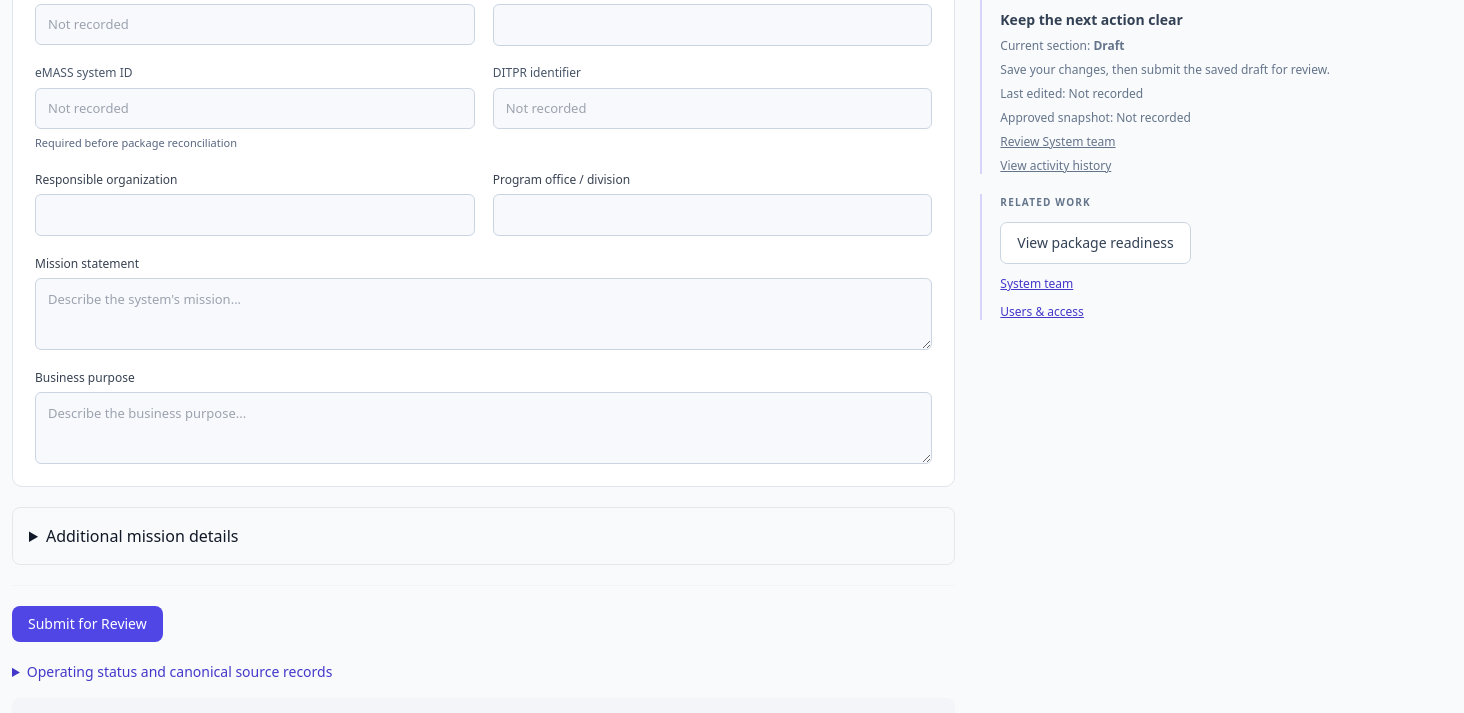
Test case: server-authoritative profile editing (#968) › does not claim success when the server skips submission
(page scrolled)
Click the button "Submit for Review" at (87, 624), box [12, 606, 163, 642]
(page scrolled)
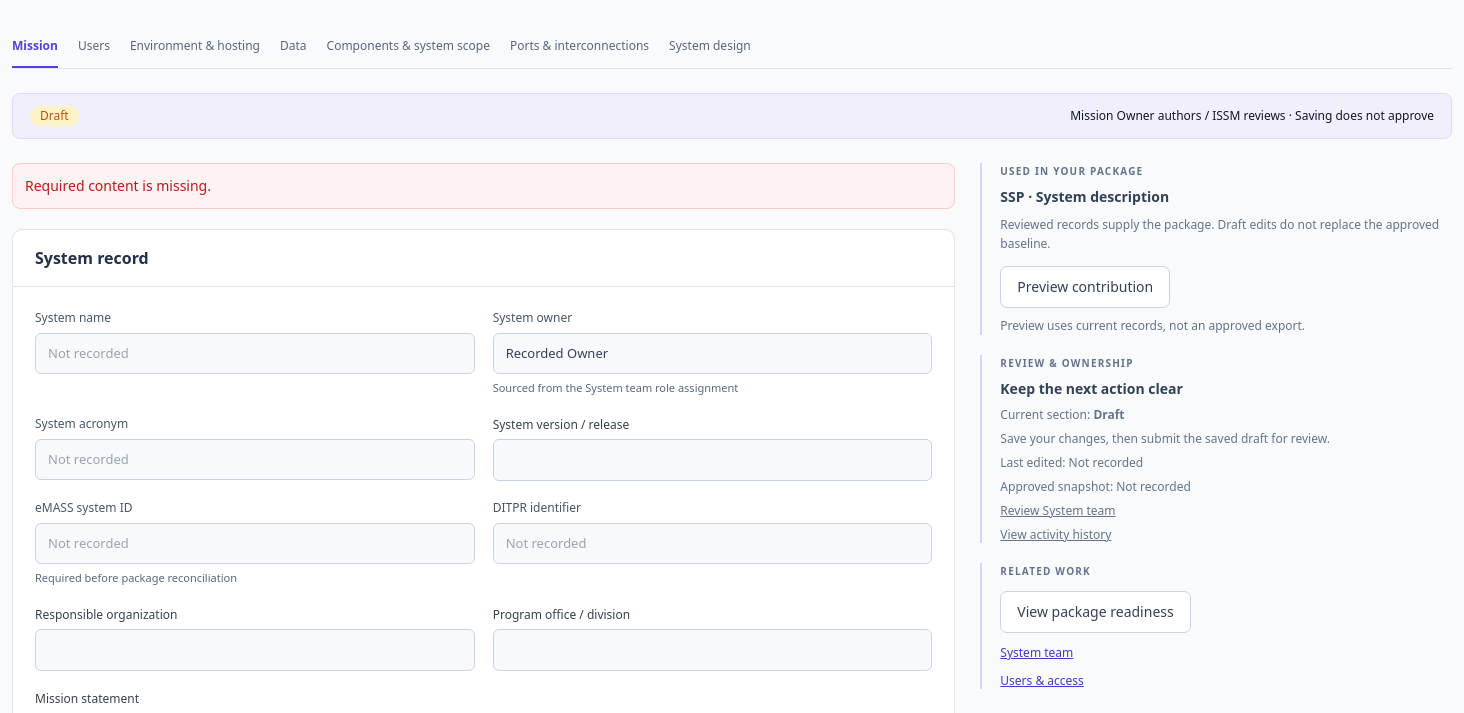
Check: the text "Required content is missing." is shown, box [12, 162, 955, 208]
